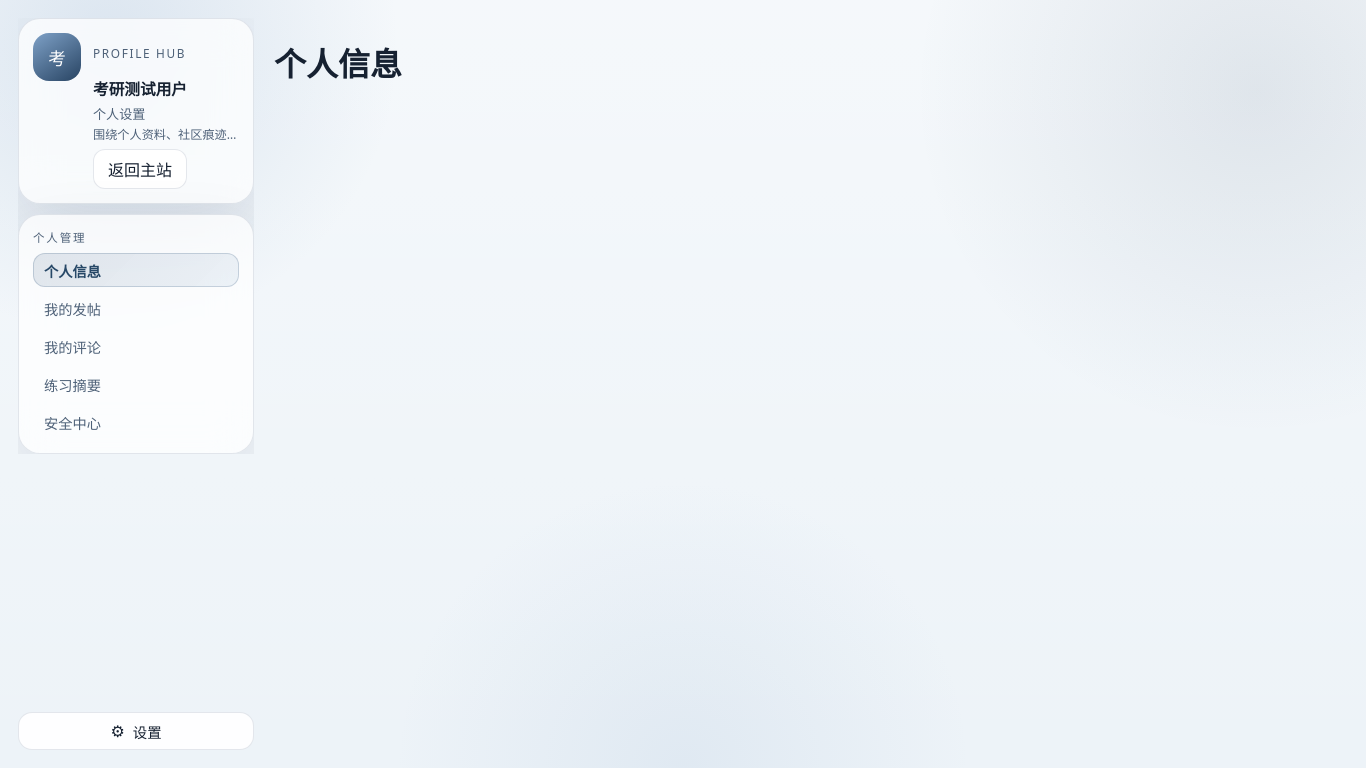
it: stack shells › keeps only theme and account sections in the settings popover
The width and height of the screenshot is (1366, 768).
Click the button with aria-label "打开偏好与账户设置" at (136, 731), box [18,712,254,750]
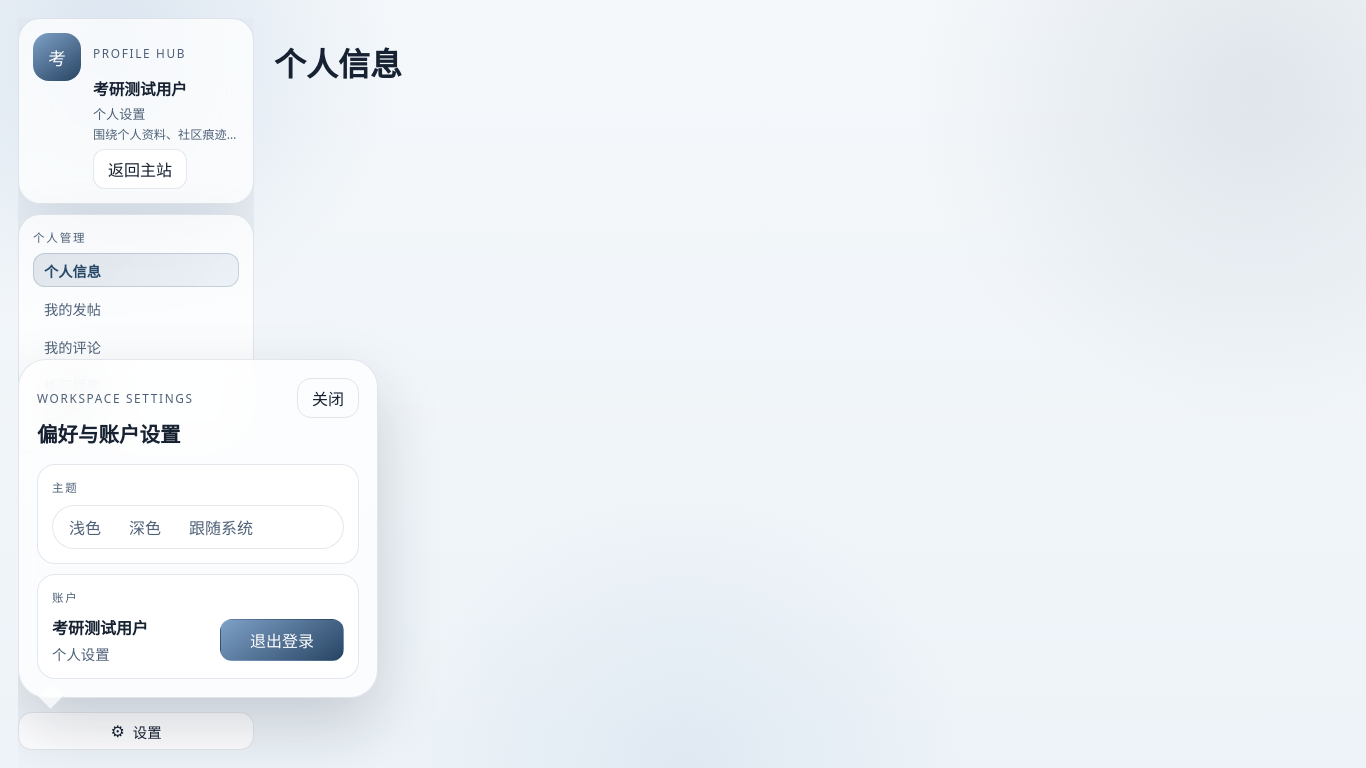
Check: the heading "偏好与账户设置" is shown, box [37,418,194,448]
Check: the text "主题" is shown, box [52,480,79,495]
Check: the text "账户" is shown, box [52,590,79,605]
